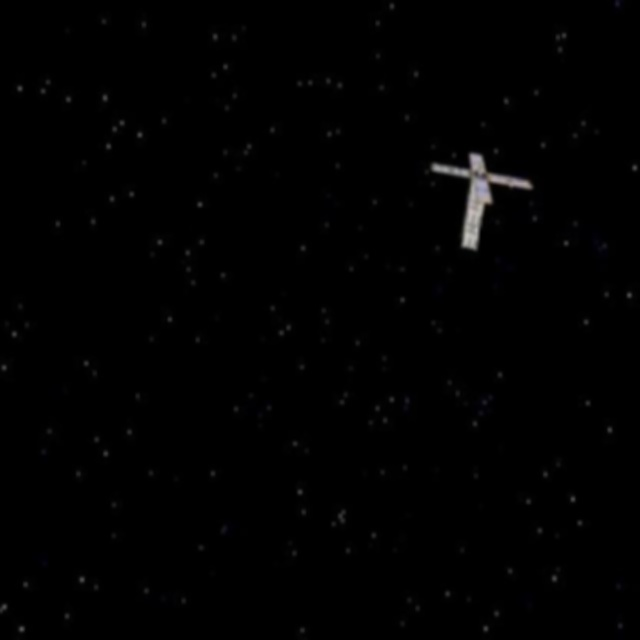medium_debris: (425, 140, 527, 260)
